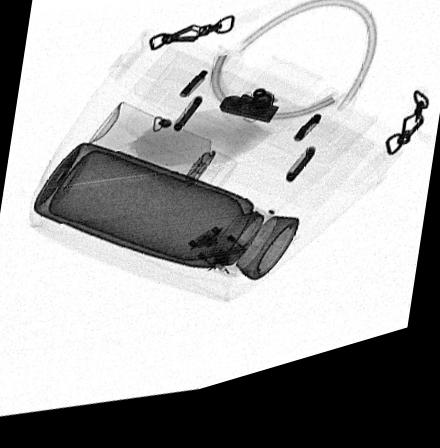Sprayer: (86, 108, 236, 206)
